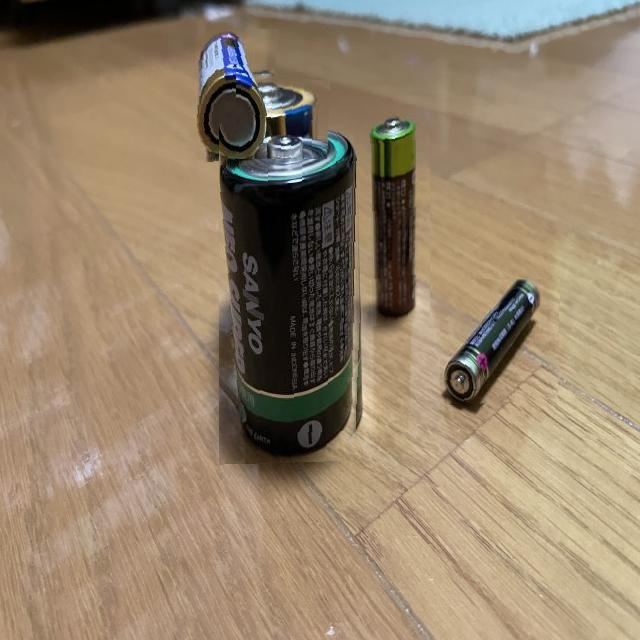battery: (219, 124, 367, 465), (440, 279, 560, 406), (368, 110, 430, 326), (195, 30, 280, 166), (236, 72, 330, 159)
